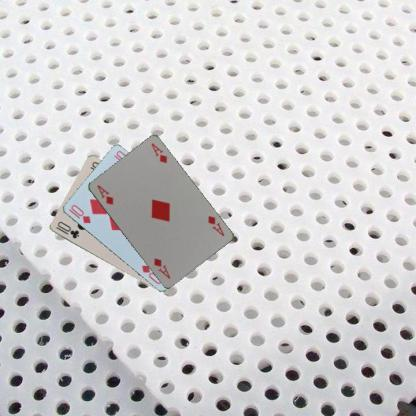10c: (53, 219, 80, 240)
10d: (68, 202, 92, 225)
Ad: (94, 182, 115, 206), (205, 213, 225, 238)
